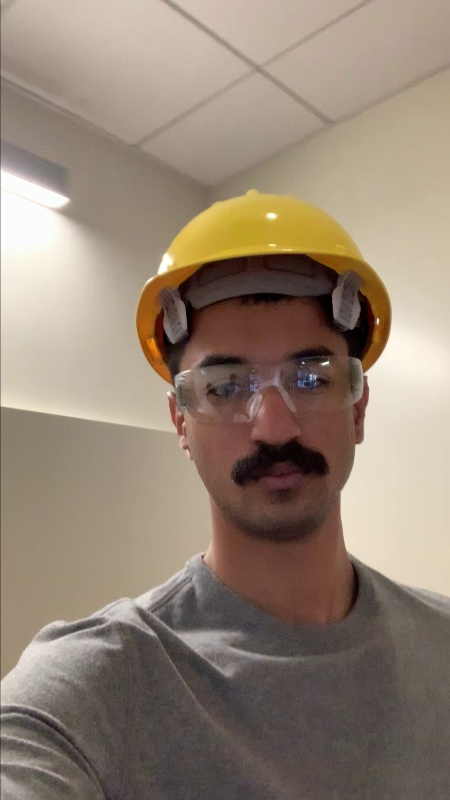glasses: (165, 352, 368, 427)
helmet: (122, 183, 399, 344)
